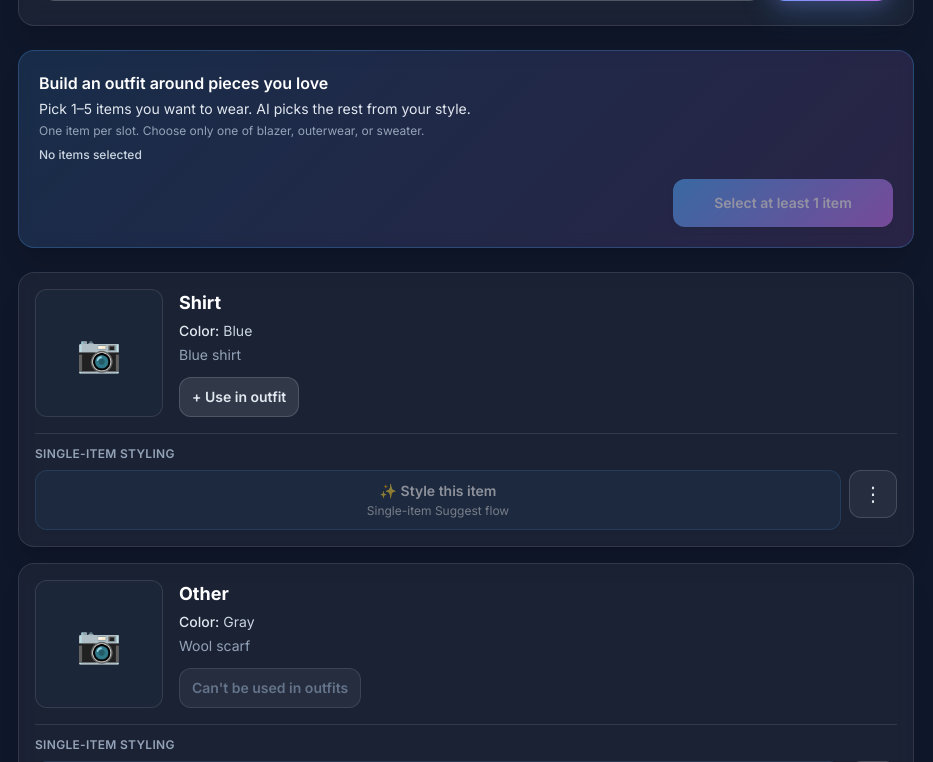
Scenario: Wardrobe page › outfit completion UX clarity › shows new card toggle copy, no Selected badge, and ineligible copy
This screenshot has width=933, height=762.
(page scrolled)
Click the button with aria-label "Use shirt in outfit": (239, 397) [179, 377, 299, 417]
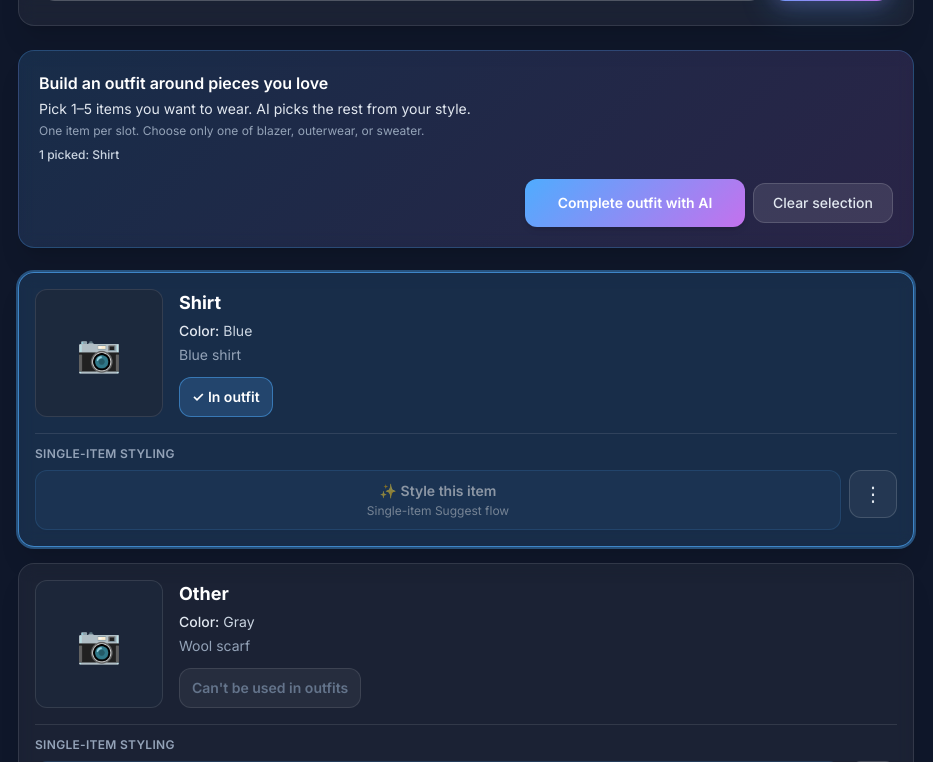
Expected: the button with aria-label "scarf can't be used in outfits" reads "Can't be used in outfits", [179, 668, 361, 708]
Expected: the button with aria-label "Remove shirt from outfit" reads "✓ In outfit", [179, 377, 273, 417]
